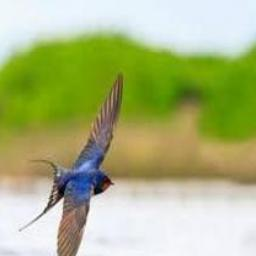Swallow: (17, 69, 123, 256)
